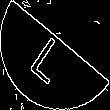L_NE: (30, 26, 80, 84)
